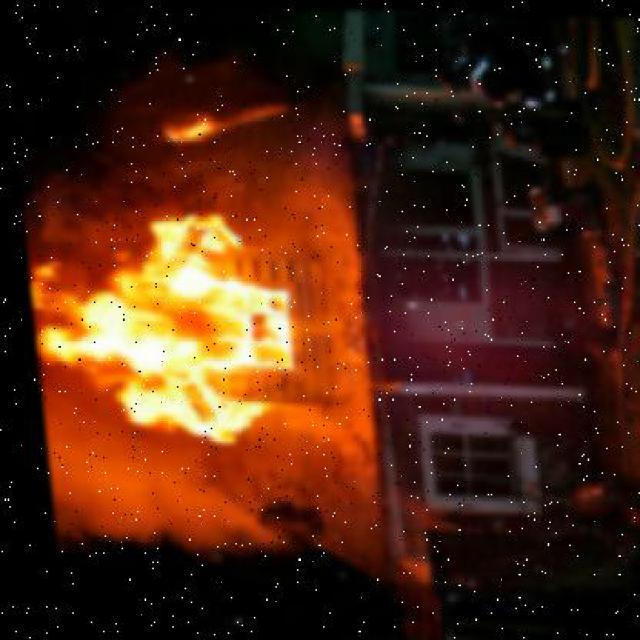fire: (16, 162, 299, 475)
